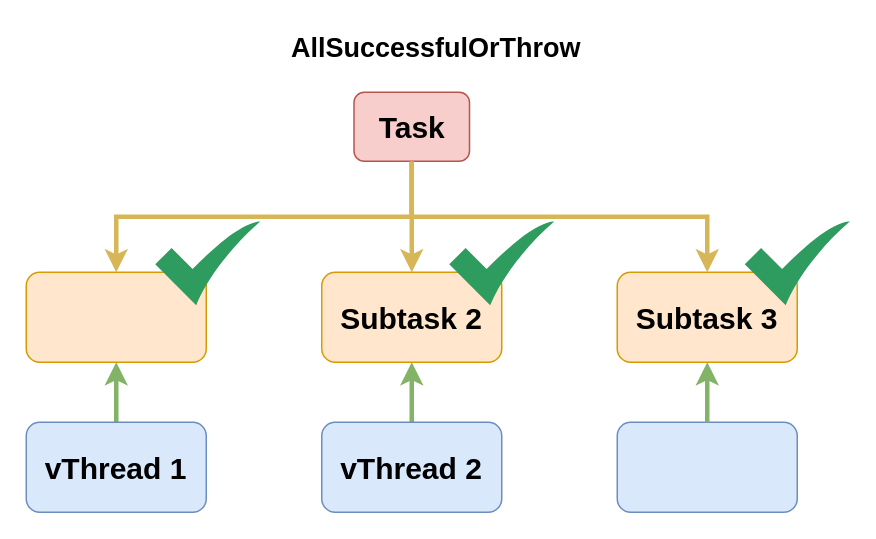
Image size: 876x539. Some labels were removed from this diagram. The centre of each missing label's shape, as x and y in pixels:
Subtask 1: the point at 115,316
vThread 3: the point at 706,466
